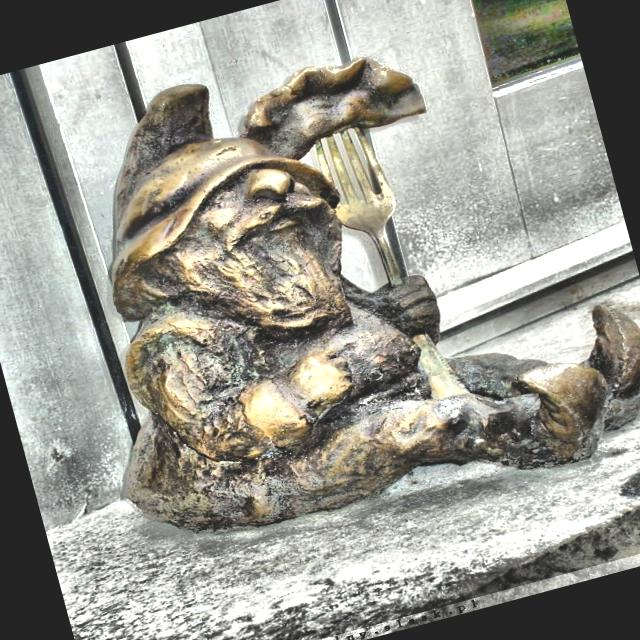Pieroznik: (106, 57, 640, 536)
